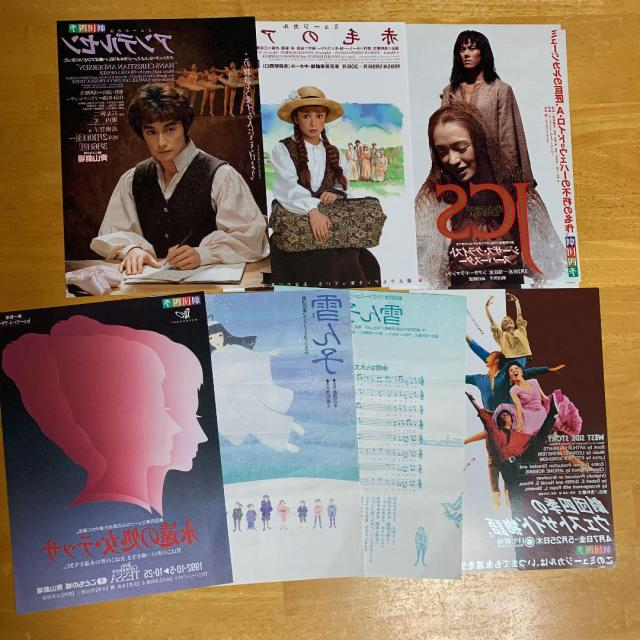paper: (0, 287, 609, 611), (57, 21, 575, 294)
